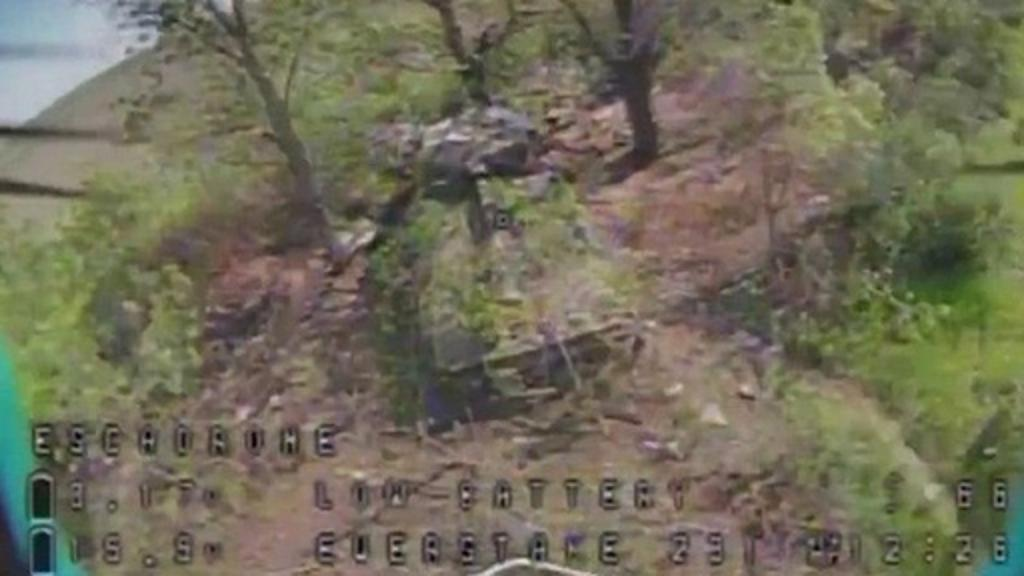ART: (386, 98, 654, 416)
